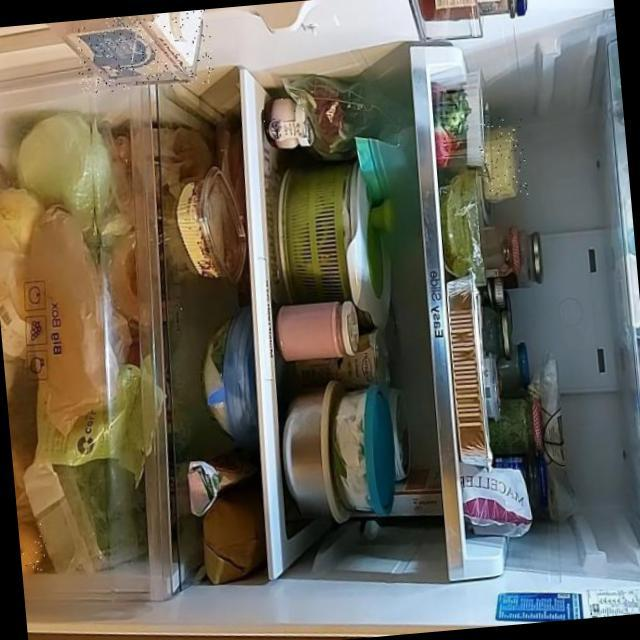Limón: (17, 521, 49, 576)
Queso: (476, 115, 529, 198)
Yogur: (257, 90, 318, 153)
milk: (71, 9, 213, 95)
